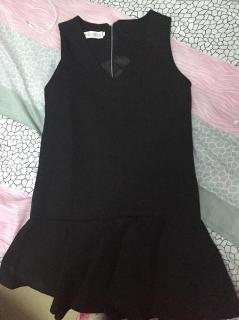vest: (0, 9, 239, 319)
